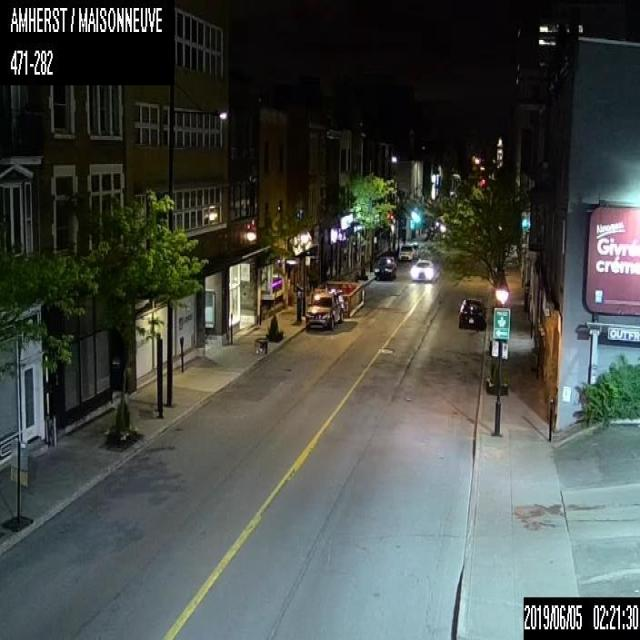vehicle: (304, 289, 344, 329), (458, 298, 483, 330), (374, 254, 396, 278), (412, 258, 433, 278), (398, 244, 413, 260), (405, 240, 418, 256)
